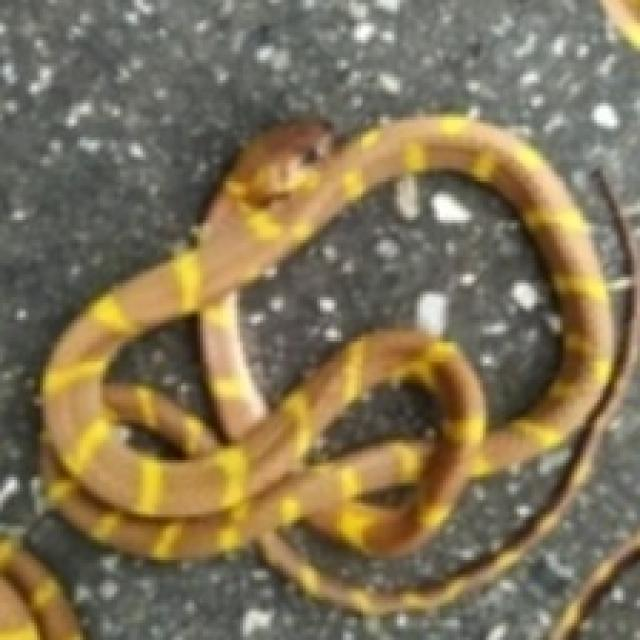mangrove cat snake: (40, 117, 637, 611), (43, 117, 634, 611), (0, 537, 86, 637), (0, 543, 80, 637)
